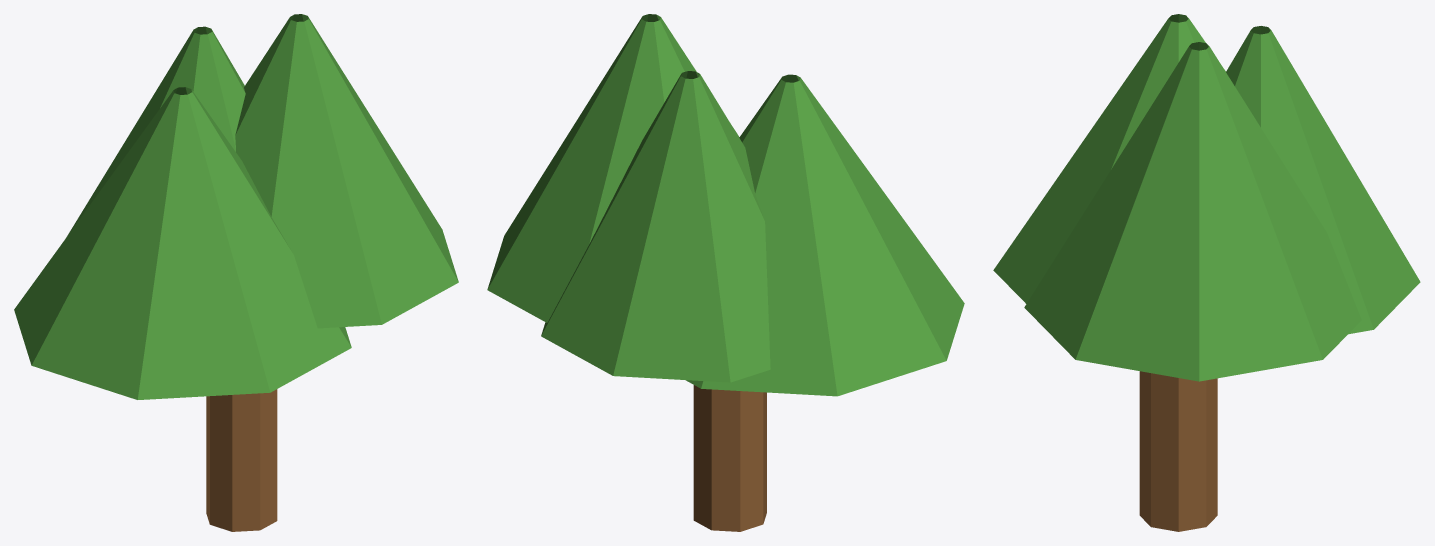
File: arbol_bosque1.fbx
3 views of the same model, side by side, from view 1: azimuth 30°, elevation 25°; view 2: azimuth 150°, elevation 25°; view 3: azimuth 270°, elevation 25° (orthographic). The views are drawn at different scales.
Parts seen in each view (by area): view 1: Arbol_Bosque_01_Copa, Arbol_Bosque_01_Tronco; view 2: Arbol_Bosque_01_Copa, Arbol_Bosque_01_Tronco; view 3: Arbol_Bosque_01_Copa, Arbol_Bosque_01_Tronco.
Boxes of the visible parts, x1,y1,x2,y2 form: Arbol_Bosque_01_Copa: (14, 14, 458, 399); Arbol_Bosque_01_Tronco: (206, 389, 277, 531); Arbol_Bosque_01_Copa: (487, 14, 964, 396); Arbol_Bosque_01_Tronco: (693, 385, 766, 531); Arbol_Bosque_01_Copa: (993, 14, 1420, 381); Arbol_Bosque_01_Tronco: (1139, 371, 1217, 531).
Size of the model in its own units: 500 by 540 by 415.
